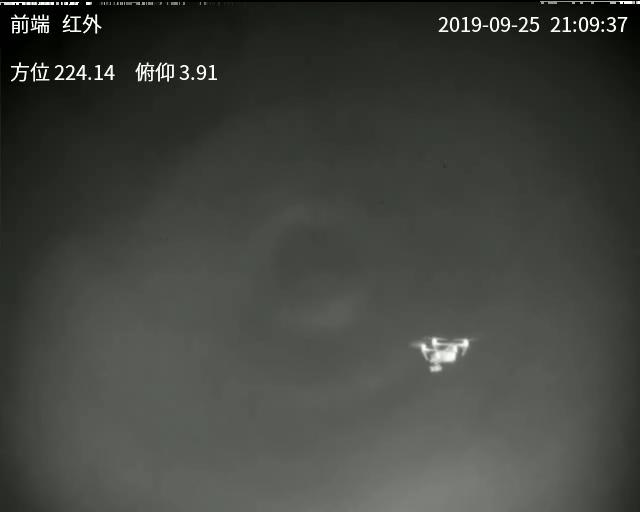uav: (413, 329, 471, 374)
